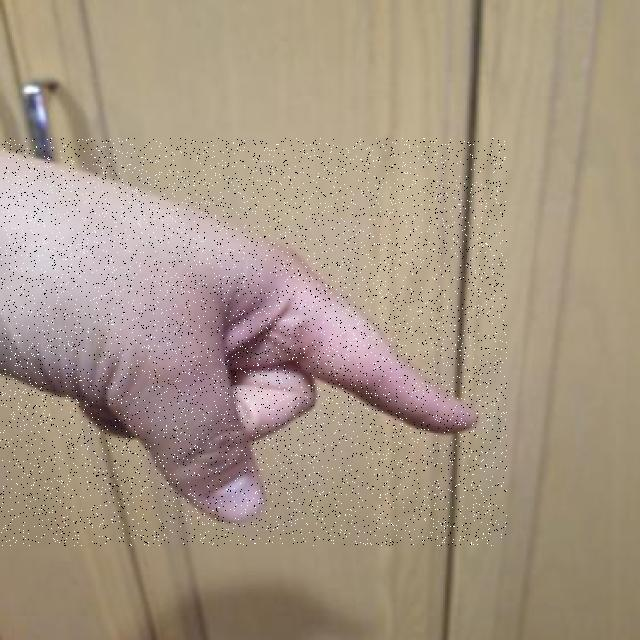Q: (0, 138, 507, 546)
